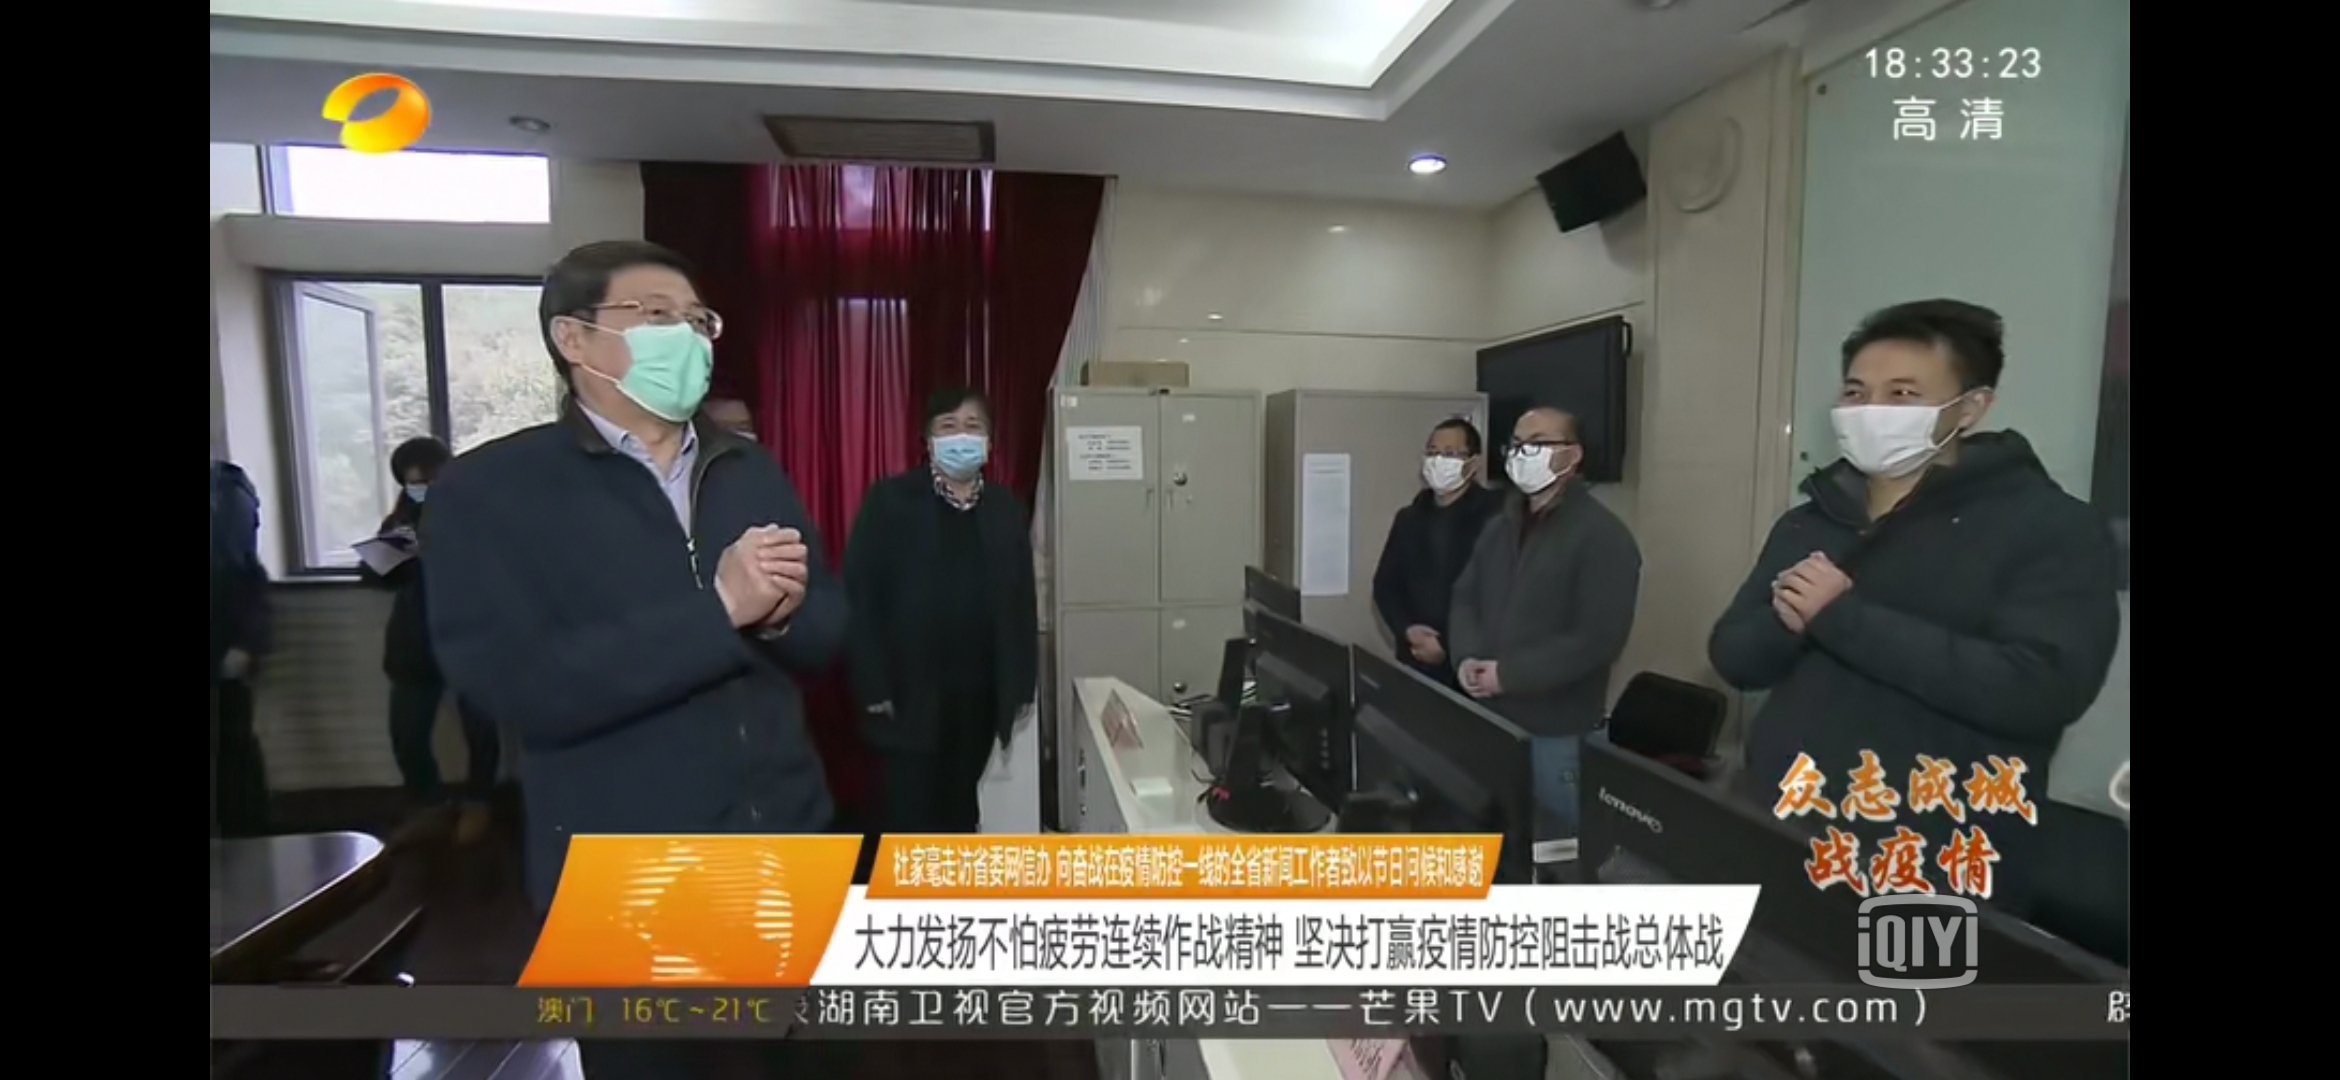correctlyWear: (543, 274, 727, 449), (1825, 368, 1995, 485), (1500, 427, 1583, 497), (925, 415, 995, 492), (1421, 439, 1480, 500), (398, 464, 437, 504)
